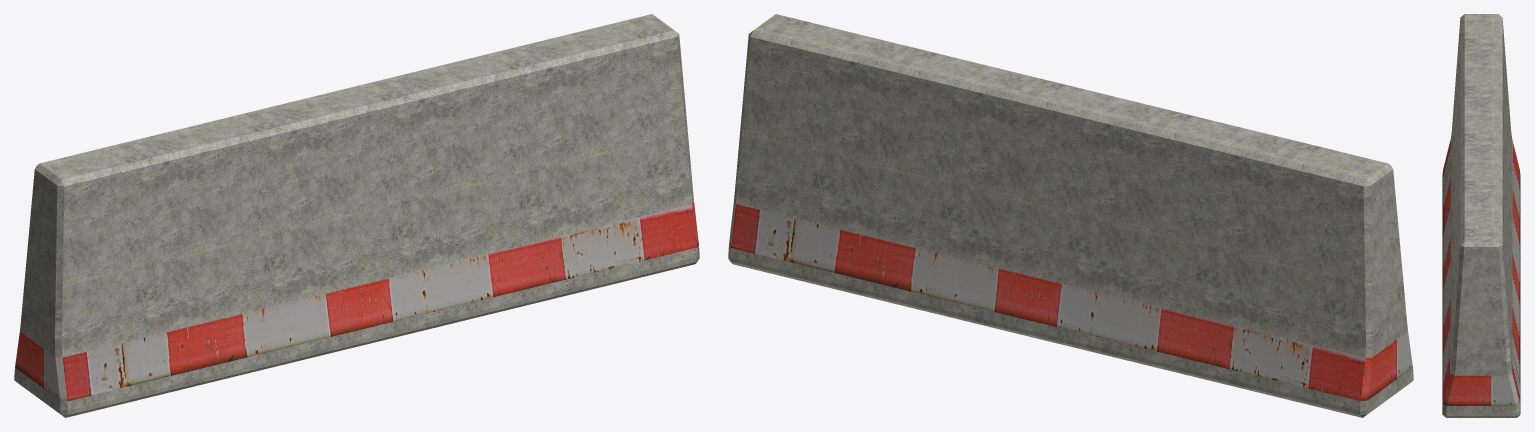
Rendered from CT_Conc_barrier_01.fbx.
3 views of the same model, side by side, from view 1: azimuth 30°, elevation 25°; view 2: azimuth 150°, elevation 25°; view 3: azimuth 270°, elevation 25° (orthographic). The views are drawn at different scales.
Parts seen in each view (by area): view 1: CT_Conc_barrier_01; view 2: CT_Conc_barrier_01; view 3: CT_Conc_barrier_01.
Part boxes in pixels (<box>): CT_Conc_barrier_01: <box>14,14,699,417</box>; CT_Conc_barrier_01: <box>728,14,1413,417</box>; CT_Conc_barrier_01: <box>1442,14,1520,417</box>.
Size of the model in its own units: 500 by 170 by 70.
